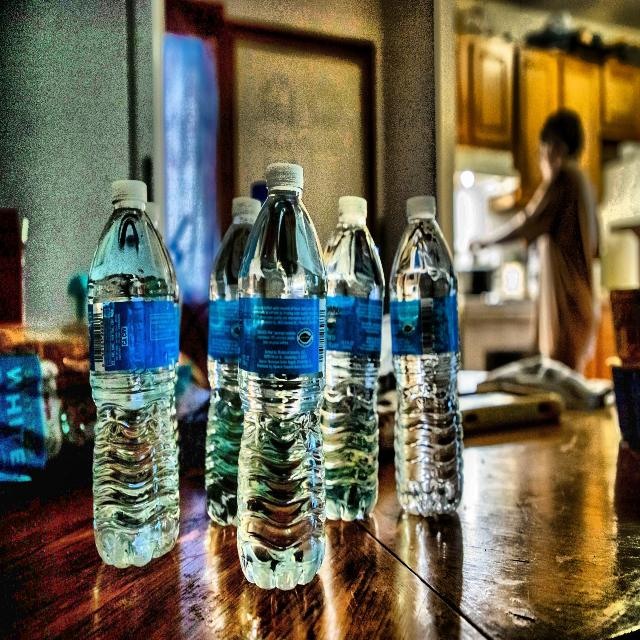Bottles: (76, 173, 187, 573), (234, 157, 330, 596), (376, 174, 475, 522)
